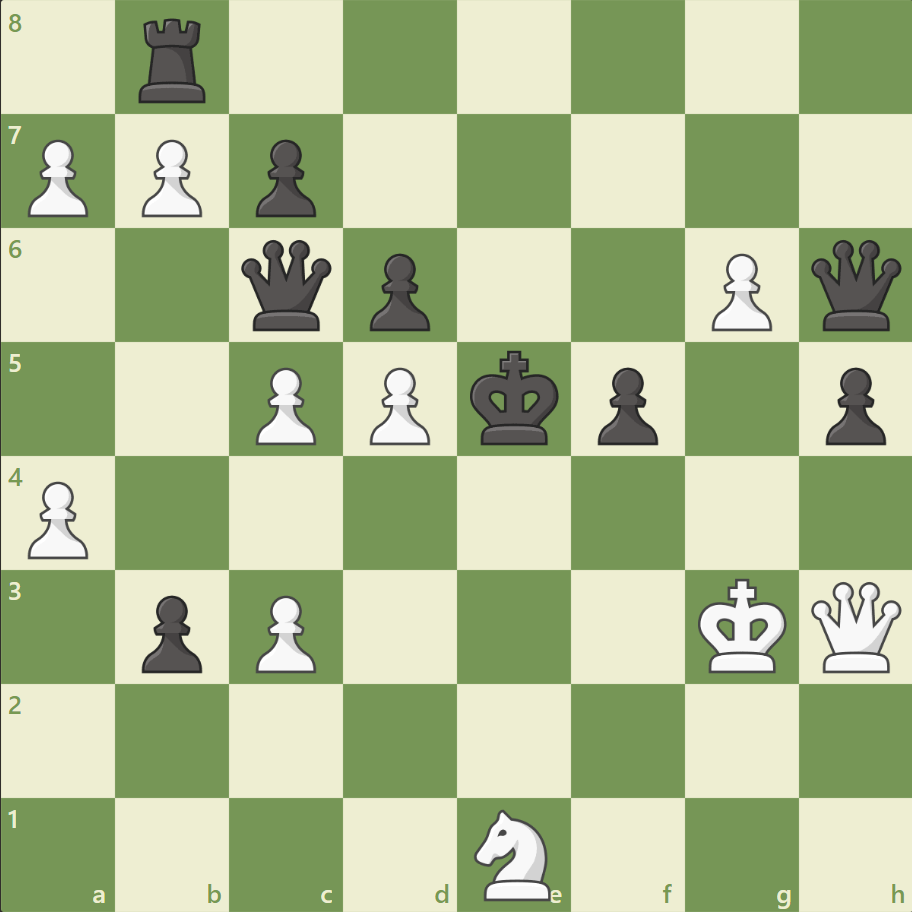K: (692, 571, 792, 679)
N: (465, 802, 562, 904)
P: (20, 132, 95, 223), (133, 132, 208, 223), (701, 246, 776, 337), (247, 359, 322, 450), (20, 473, 95, 564), (247, 586, 322, 677), (361, 359, 435, 450)
Q: (805, 576, 904, 676)
k: (465, 344, 565, 452)
p: (247, 132, 322, 223), (133, 586, 208, 677), (361, 246, 435, 337), (588, 359, 662, 450), (815, 359, 889, 450)
q: (237, 236, 336, 335), (805, 236, 904, 335)
r: (133, 12, 215, 109)
